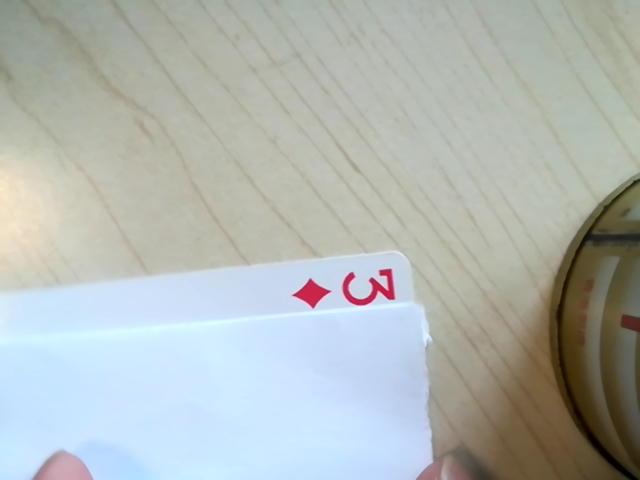fk 3: (292, 264, 411, 317)
